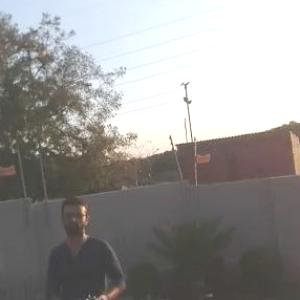follow: (42, 188, 134, 299)
